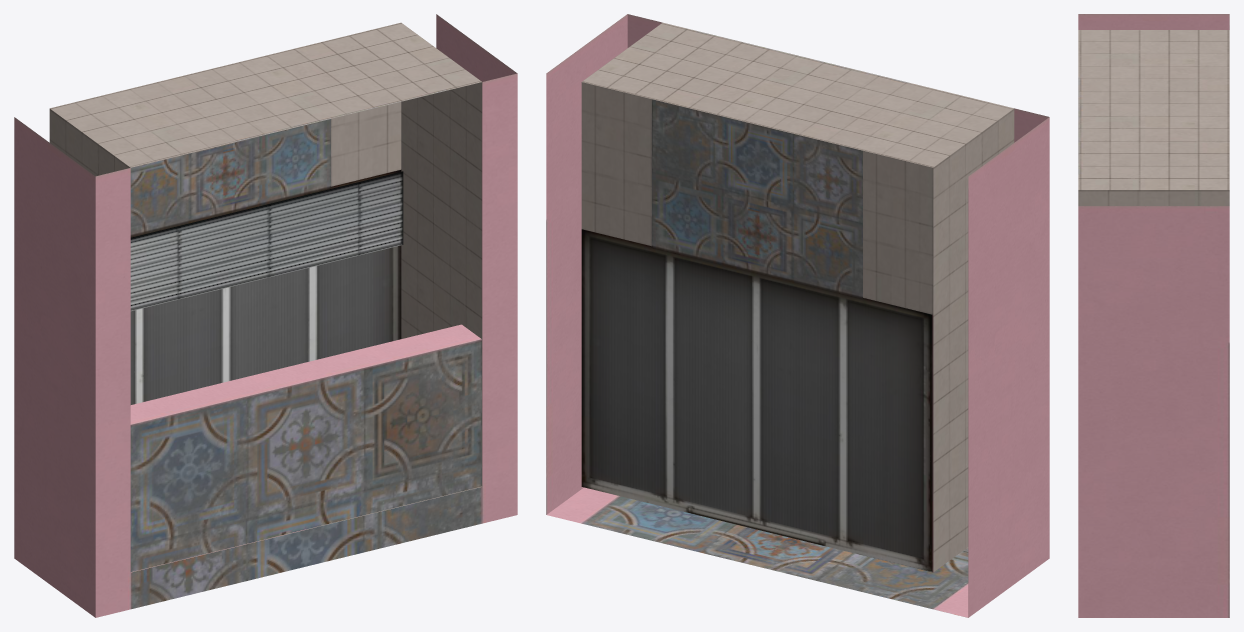
The model's file is Building A Window A4.fbx.
3 renders of one model, left to right at view 1: azimuth 30°, elevation 25°; view 2: azimuth 150°, elevation 25°; view 3: azimuth 270°, elevation 25°, orthographic. The views are drawn at different scales.
Parts seen in each view (by area): view 1: Building A Window A4 (2, Baked); view 2: Building A Window A4 (2, Baked); view 3: Building A Window A4 (2, Baked).
Boxes of the visible parts, x1,y1,x2,y2 form: Building A Window A4 (2, Baked): (14, 14, 517, 617); Building A Window A4 (2, Baked): (546, 14, 1049, 617); Building A Window A4 (2, Baked): (1078, 14, 1229, 617).
Size of the model in its own units: 300 by 300 by 100.
